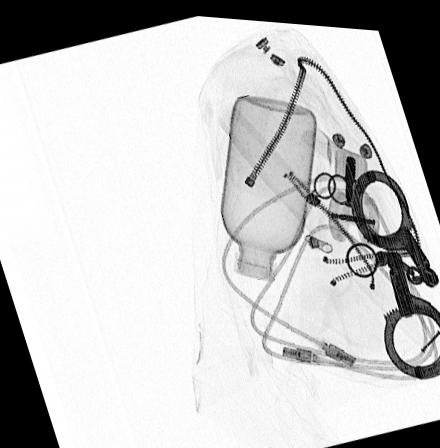HandCuffs: (350, 164, 440, 374)
